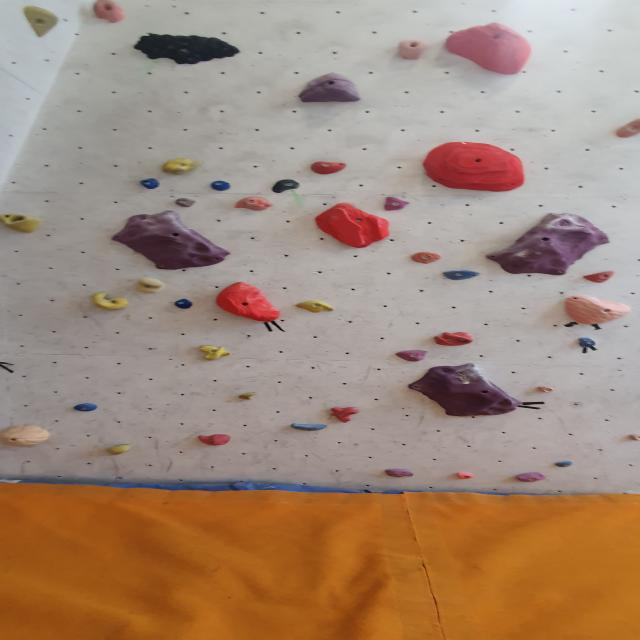Crimp: (484, 212, 614, 280), (107, 208, 232, 272), (402, 366, 518, 423), (418, 143, 532, 198), (292, 300, 341, 316), (307, 160, 350, 177), (438, 269, 486, 283), (580, 270, 620, 286), (407, 250, 445, 265), (393, 349, 431, 363), (382, 196, 413, 213), (288, 422, 330, 434), (513, 470, 550, 482), (382, 466, 416, 478), (205, 178, 234, 192), (134, 177, 164, 190), (168, 299, 198, 312), (572, 338, 602, 351), (173, 198, 200, 210), (71, 404, 101, 414), (550, 458, 578, 468), (532, 386, 558, 396), (454, 470, 476, 481)
Jug: (126, 28, 242, 69), (18, 4, 61, 38), (90, 291, 134, 314), (89, 0, 126, 24), (611, 117, 640, 141), (132, 276, 166, 296), (196, 345, 233, 363), (328, 408, 359, 424)
Pinch: (312, 201, 396, 250), (393, 39, 432, 64), (160, 158, 199, 177)
Pocket: (1, 210, 46, 234), (431, 333, 476, 348)
Sloper: (440, 19, 537, 76), (211, 280, 285, 323), (295, 70, 367, 106), (560, 292, 634, 325), (1, 423, 53, 450), (233, 196, 275, 213), (195, 432, 233, 447), (104, 443, 134, 458)
